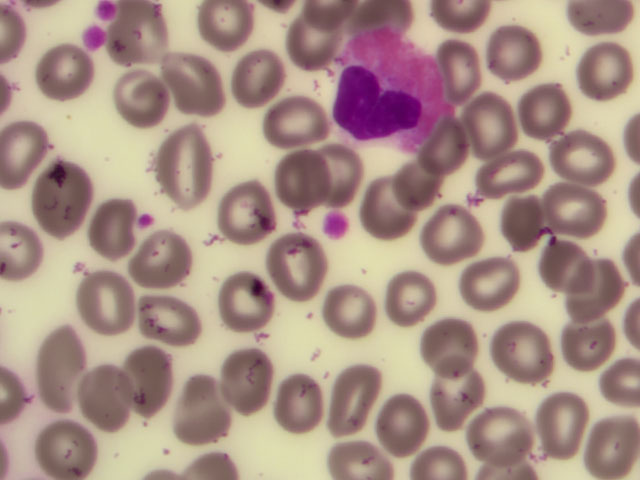Platelets: (322, 211, 351, 235), (96, 1, 118, 22), (85, 27, 103, 47), (136, 215, 155, 228)
RBC: (39, 44, 94, 99), (2, 121, 57, 176), (43, 167, 98, 222), (77, 198, 132, 253), (76, 270, 131, 325), (138, 231, 193, 286), (140, 295, 195, 350), (129, 349, 184, 404), (82, 372, 137, 427), (35, 333, 90, 388), (39, 420, 94, 475), (168, 390, 223, 445), (219, 348, 274, 403), (218, 277, 273, 332), (264, 238, 319, 293), (225, 184, 280, 239), (167, 139, 222, 194), (117, 73, 172, 128), (150, 54, 205, 109), (123, 7, 178, 62), (235, 44, 290, 99), (268, 92, 323, 147), (273, 148, 328, 203), (309, 148, 364, 203), (355, 191, 410, 246), (388, 163, 443, 218), (421, 125, 476, 180), (457, 98, 512, 153), (449, 41, 504, 96), (488, 20, 543, 75), (521, 78, 576, 133), (494, 146, 549, 201), (426, 205, 481, 260), (388, 265, 443, 320), (325, 284, 380, 339), (467, 249, 522, 304), (499, 193, 554, 248), (545, 178, 600, 233), (558, 121, 613, 176), (581, 42, 636, 97), (534, 239, 589, 294), (567, 265, 622, 320), (555, 311, 610, 366), (490, 332, 545, 387), (426, 317, 481, 372), (430, 361, 485, 416), (381, 396, 436, 451), (321, 369, 376, 424), (275, 375, 330, 430), (468, 407, 523, 462), (534, 393, 589, 448), (585, 424, 640, 479), (585, 361, 640, 416), (197, 1, 252, 55)
WBC: (335, 36, 446, 146)
